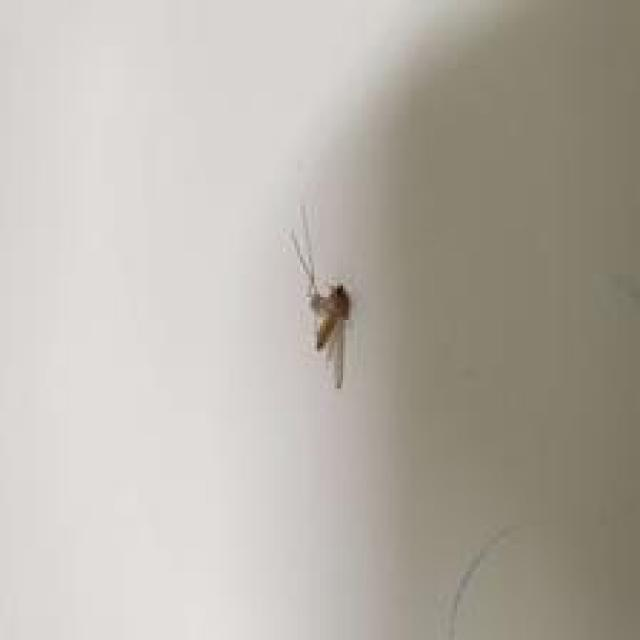Culex: (289, 203, 354, 388)
